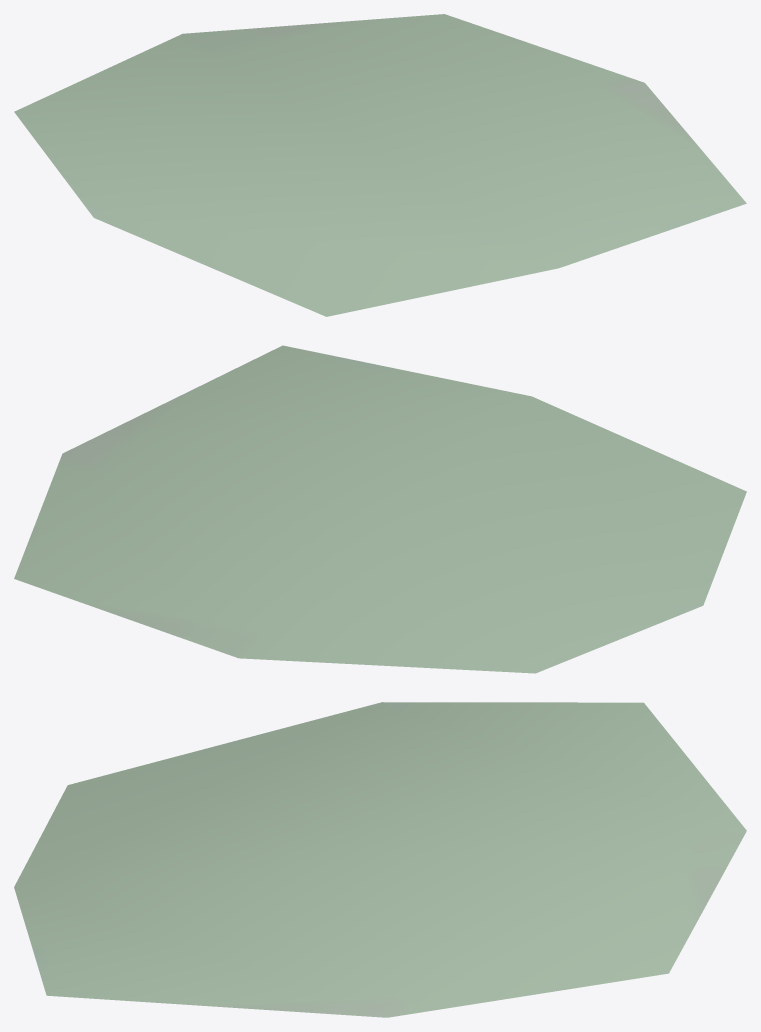
Rendered from TROLLHOLE02_HOLECAP05.fbx.
The picture shows the model from 3 angles, top to bottom: view 1: azimuth 30°, elevation 25°; view 2: azimuth 150°, elevation 25°; view 3: azimuth 270°, elevation 25°; orthographic projection. The views are drawn at different scales.
Parts seen in each view (by area): view 1: TROLLHOLE02_HOLECAP05; view 2: TROLLHOLE02_HOLECAP05; view 3: TROLLHOLE02_HOLECAP05.
Boxes of the visible parts, left/top/right/bottom form: TROLLHOLE02_HOLECAP05: left=14, top=14, right=746, bottom=316; TROLLHOLE02_HOLECAP05: left=14, top=345, right=746, bottom=673; TROLLHOLE02_HOLECAP05: left=14, top=702, right=746, bottom=1017.
Size of the model in its own units: 26305 by 1794 by 25963.
1 material, 1 textured.
